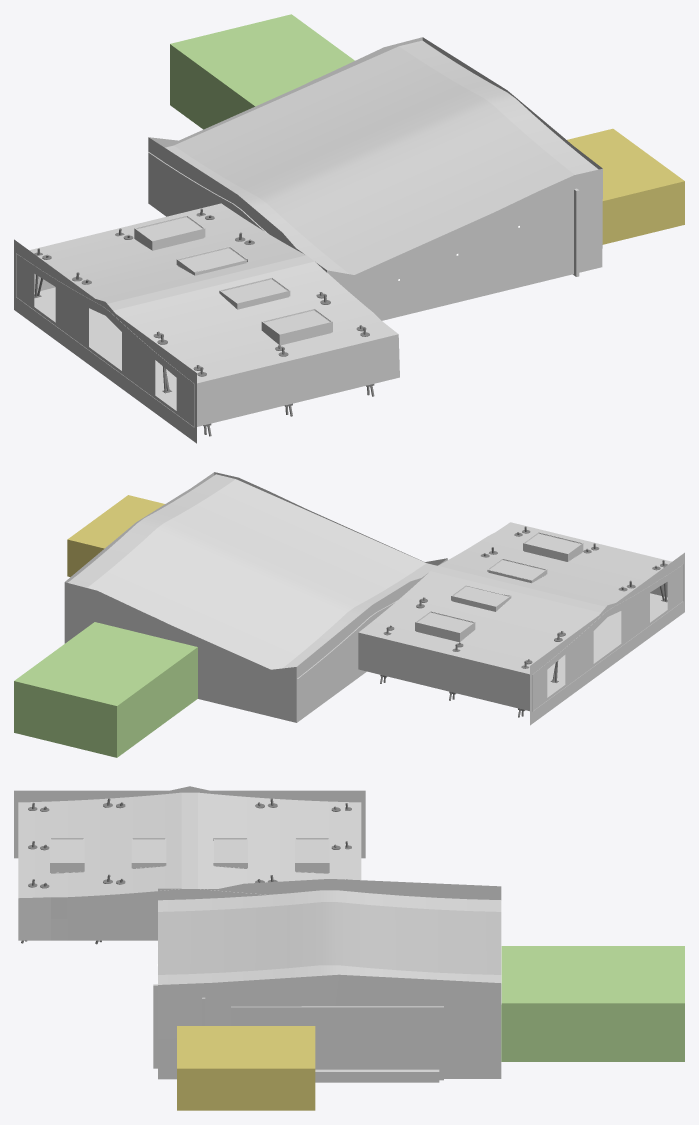
File: conferencemain.fbx
3 renders of one model, top to bottom at view 1: azimuth 30°, elevation 25°; view 2: azimuth 150°, elevation 25°; view 3: azimuth 270°, elevation 25°, orthographic. The views are drawn at different scales.
Parts seen in each view (by area): view 1: hangar.001, hangar, auditorium walls and floor.001, spawn lobby, conference outter skyline wall, green room, columns4.001; view 2: hangar.001, hangar, spawn lobby, auditorium walls and floor.001, conference outter skyline wall, green room, columns4.001; view 3: hangar, hangar.001, spawn lobby, auditorium walls and floor.001, green room, auditorium back wall, conference outter skyline wall, stage floor, columns4.001.
Part boxes in pixels (x1,y1,x2,y2): hangar.001: (148, 40, 598, 274); hangar: (16, 203, 399, 427); auditorium walls and floor.001: (148, 37, 602, 320); spawn lobby: (170, 14, 354, 129); conference outter skyline wall: (14, 239, 196, 443); green room: (567, 128, 684, 244); columns4.001: (34, 208, 374, 436); hangar.001: (68, 474, 437, 678); hangar: (358, 522, 683, 711); spawn lobby: (14, 622, 197, 757); auditorium walls and floor.001: (64, 472, 447, 722); conference outter skyline wall: (530, 552, 684, 725); green room: (67, 495, 164, 576); columns4.001: (380, 526, 667, 717); hangar: (18, 792, 361, 940); hangar.001: (158, 890, 501, 984); spawn lobby: (501, 946, 684, 1061); auditorium walls and floor.001: (158, 879, 501, 1079); green room: (177, 1026, 315, 1110); auditorium back wall: (231, 1006, 443, 1080); conference outter skyline wall: (14, 786, 365, 858); stage floor: (315, 1069, 439, 1082); columns4.001: (21, 798, 351, 944).
Size of the model in its own units: 42684 by 8261 by 45008.
